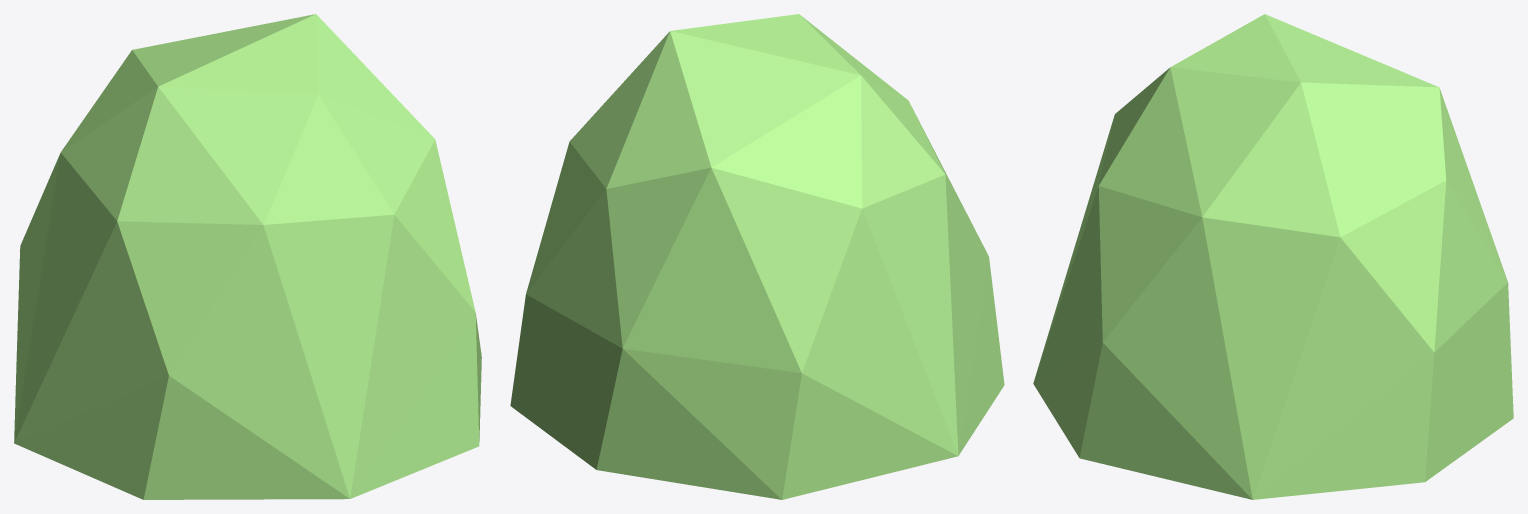
File: Bush_h_m_06.fbx
The picture shows the model from 3 angles, left to right: view 1: azimuth 30°, elevation 25°; view 2: azimuth 150°, elevation 25°; view 3: azimuth 270°, elevation 25°; orthographic projection. The views are drawn at different scales.
Visible parts, largest first — view 1: Bush_h_m_06; view 2: Bush_h_m_06; view 3: Bush_h_m_06.
Part boxes in pixels (bbox=[...]): Bush_h_m_06: bbox=[14, 14, 481, 499]; Bush_h_m_06: bbox=[510, 14, 1004, 499]; Bush_h_m_06: bbox=[1033, 14, 1513, 499].
Size of the model in its own units: 115 by 90.16 by 111.
